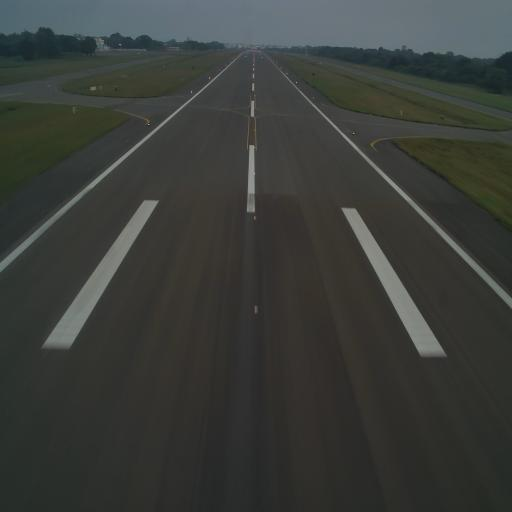on: (253, 302, 260, 319), (253, 214, 257, 222), (146, 121, 151, 127), (352, 129, 356, 136), (311, 95, 315, 102), (253, 144, 257, 150), (190, 90, 194, 96), (253, 127, 256, 134), (254, 114, 256, 121), (254, 171, 256, 177)
